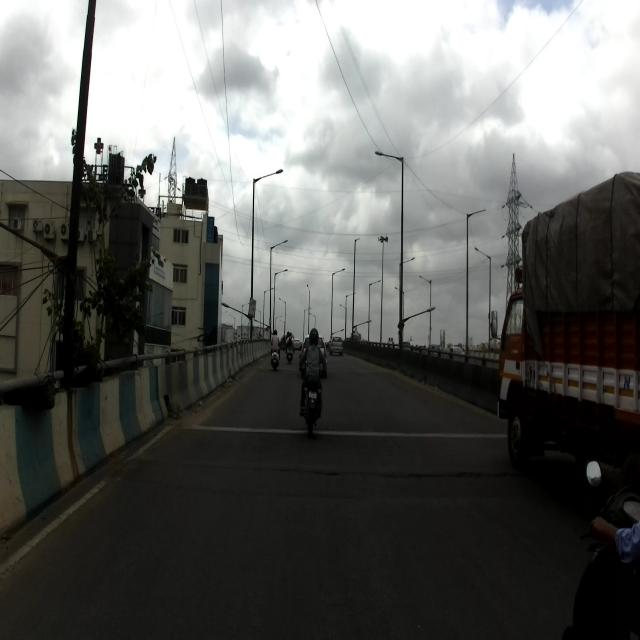motorcycle: (298, 358, 324, 439)
truck: (492, 168, 640, 470)
